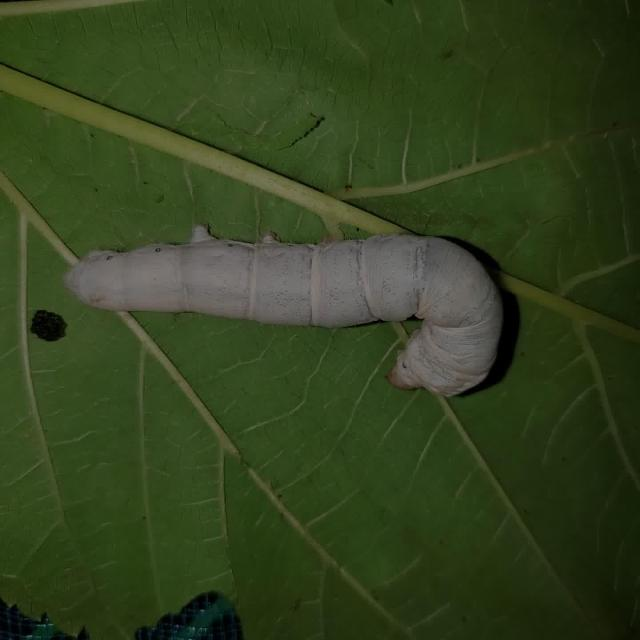Healthy: (45, 145, 527, 462)
